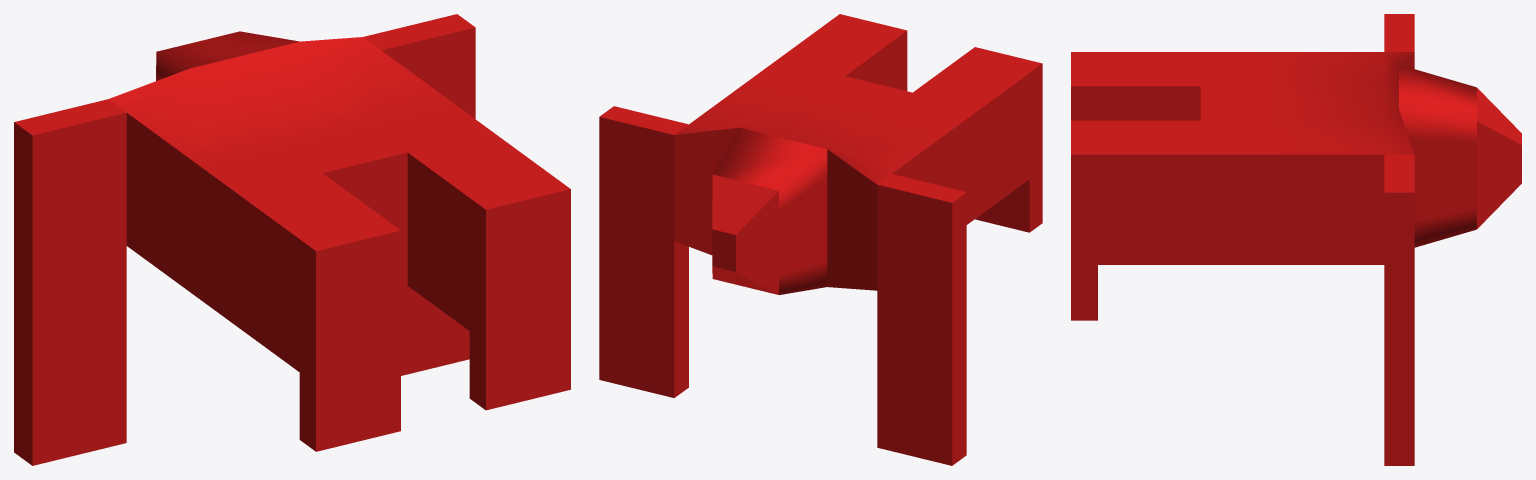
Rendered from elon.FBX.
3 renders of one model, left to right at view 1: azimuth 30°, elevation 25°; view 2: azimuth 150°, elevation 25°; view 3: azimuth 270°, elevation 25°, orthographic. The views are drawn at different scales.
Visible parts, largest first — view 1: Box002; view 2: Box002; view 3: Box002.
Part boxes in pixels (x1,y1,x2,y2): Box002: (14, 14, 570, 465); Box002: (599, 14, 1042, 465); Box002: (1071, 14, 1521, 465).
Size of the model in its own units: 6.85 by 5.18 by 7.3.
1 material, 1 textured.
